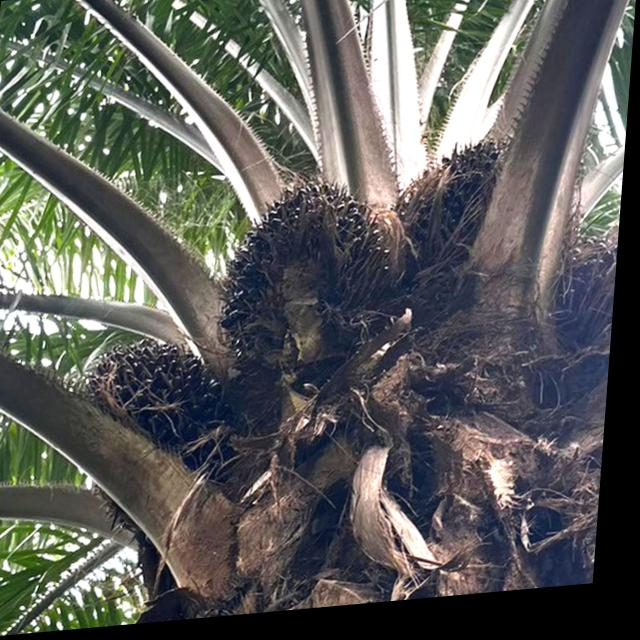unripe: (217, 174, 409, 380), (80, 330, 227, 485), (399, 141, 521, 297)
